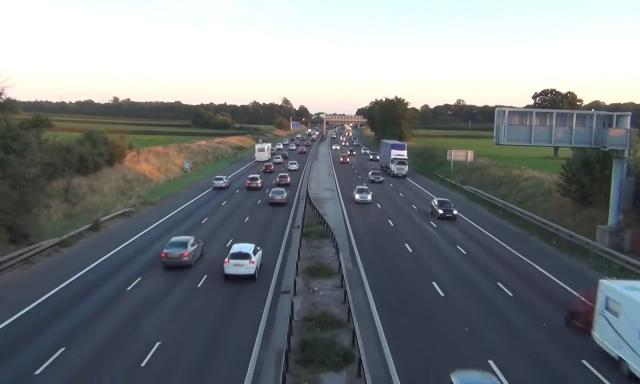caminhaop: (379, 139, 408, 178), (254, 143, 271, 162)
carro: (223, 242, 263, 282), (161, 235, 204, 270), (429, 198, 458, 220), (352, 186, 372, 205), (269, 187, 288, 206), (246, 174, 264, 190), (212, 175, 230, 188), (367, 170, 383, 184), (276, 173, 290, 187), (287, 160, 299, 172), (263, 163, 275, 174), (340, 154, 350, 164), (370, 152, 380, 161), (273, 156, 283, 164), (347, 148, 356, 156), (361, 147, 369, 154), (298, 147, 306, 154), (332, 143, 339, 150), (280, 152, 288, 158), (276, 143, 284, 149), (292, 140, 300, 146), (353, 140, 360, 146), (289, 144, 296, 150), (342, 140, 348, 146), (270, 148, 276, 154), (283, 138, 289, 144), (290, 136, 295, 142), (304, 142, 311, 146), (332, 133, 336, 138), (297, 134, 301, 139), (302, 136, 306, 140)
van: (592, 276, 640, 383)
